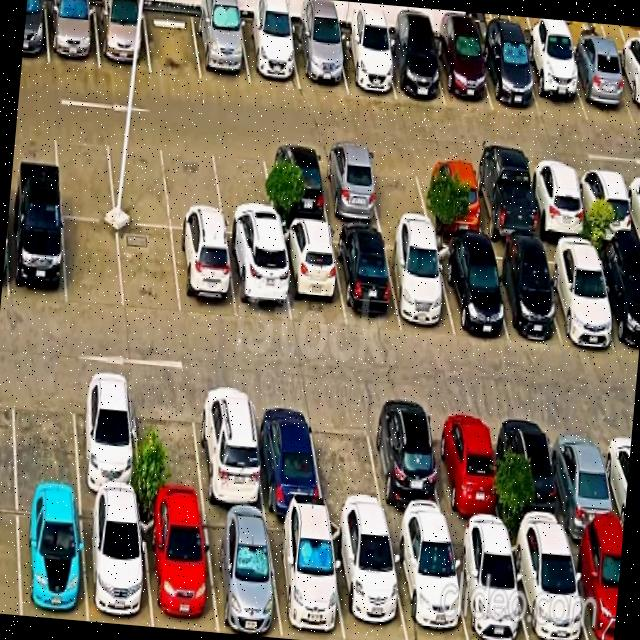empty: (309, 399, 385, 523), (132, 380, 204, 507), (12, 371, 78, 493), (211, 140, 276, 237), (106, 130, 170, 227), (162, 136, 224, 231), (117, 223, 180, 316), (54, 125, 114, 220), (63, 218, 123, 309), (365, 152, 430, 229), (144, 8, 201, 79)
occupied: (202, 509, 282, 638), (365, 404, 447, 528), (140, 504, 217, 632), (266, 515, 344, 640), (428, 407, 504, 533), (329, 520, 407, 640), (81, 497, 152, 627), (548, 416, 622, 539), (193, 386, 265, 512), (251, 392, 323, 515), (388, 528, 467, 640), (17, 494, 86, 621), (449, 529, 527, 640), (72, 374, 140, 501), (498, 411, 567, 536), (508, 534, 587, 640), (541, 244, 616, 347), (434, 241, 508, 341), (383, 234, 454, 336), (485, 244, 560, 340), (331, 229, 400, 328), (278, 226, 345, 327), (171, 229, 236, 319), (225, 235, 290, 324), (567, 537, 622, 640), (8, 207, 65, 305), (470, 160, 538, 242), (565, 48, 634, 124), (418, 156, 484, 235), (263, 145, 328, 224), (317, 148, 381, 226), (594, 247, 640, 355), (521, 45, 587, 120), (526, 163, 588, 240), (575, 166, 636, 244), (479, 38, 540, 115), (433, 35, 492, 109), (239, 18, 299, 89), (383, 35, 444, 104), (192, 13, 250, 85), (335, 31, 395, 99), (94, 4, 150, 72), (45, 0, 99, 68), (291, 27, 347, 92), (613, 54, 640, 124)
